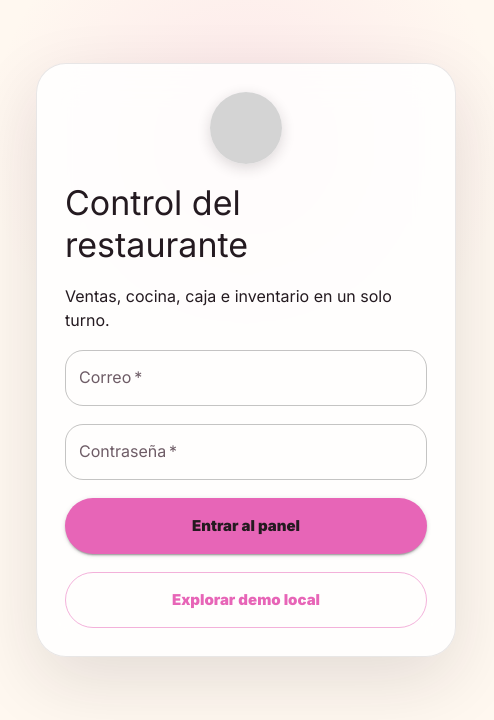
Test: rejects a valid login that does not belong to an admin
The image size is (494, 720).
Type "cliente@benditas.local" into the field labelled "Correo *" at [246, 378], box [65,350,427,406]
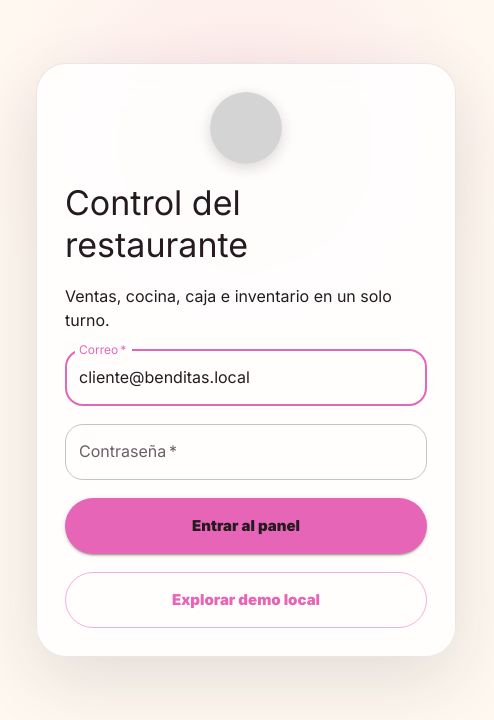
Type "Password123" into the password field labelled "Contraseña *" at [246, 452], box [65,424,427,480]
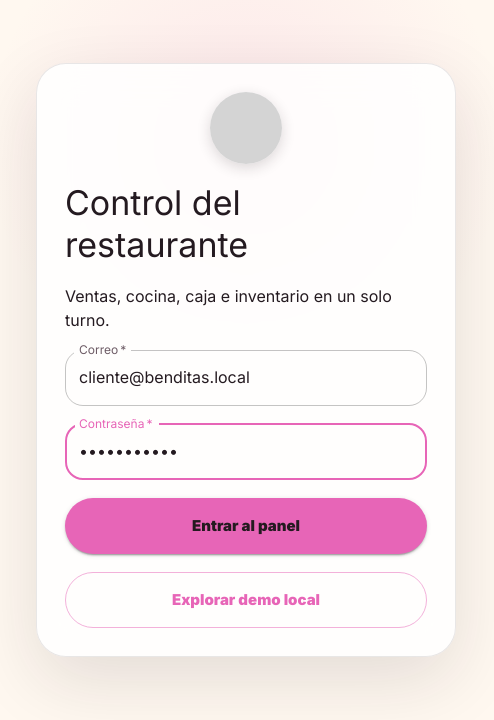
Click the button "Entrar al panel" at [246, 526], box [65,498,427,554]
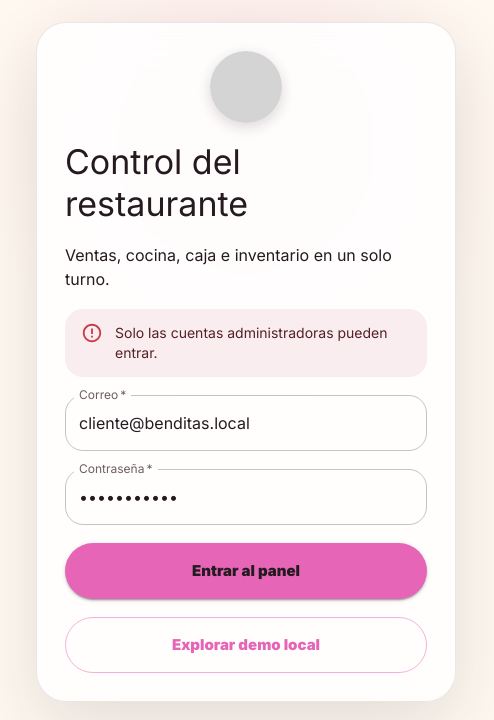
Check: the button "Entrar al panel" is enabled, box [65,543,427,599]
Check: the text "Solo las cuentas administradoras pueden entrar." is shown, box [115,315,411,371]
